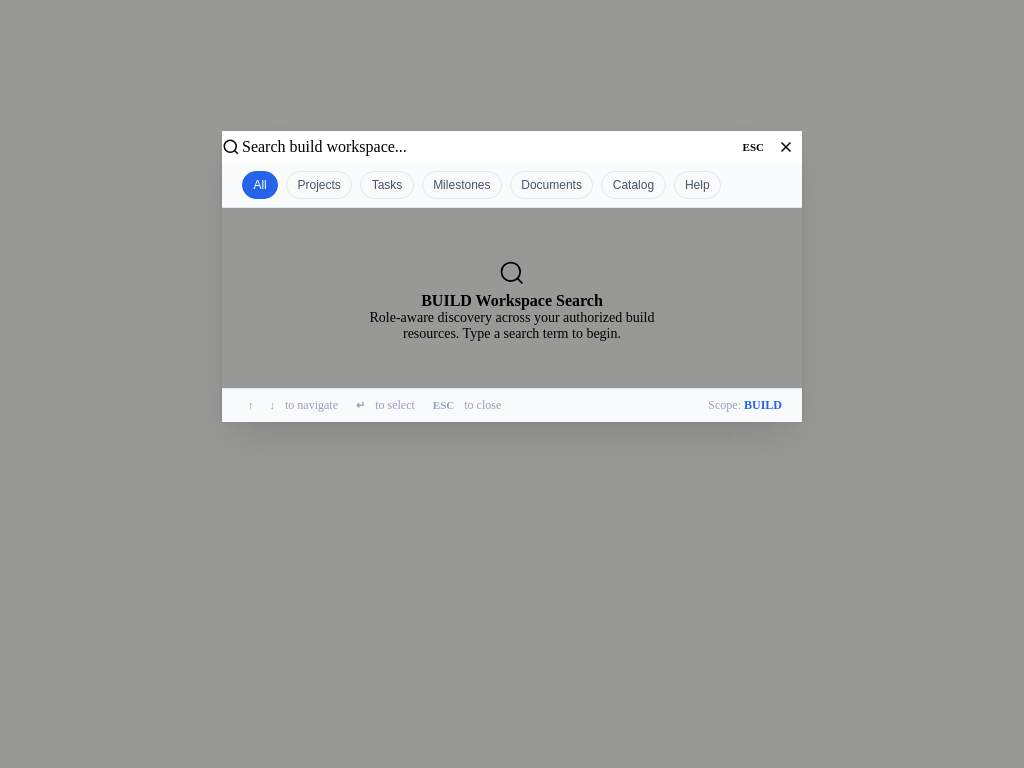
Test: Phase 8 Batch 3: Search & Notifications UI › Global Search Modal › displays error state with retry when search fails
The image size is (1024, 768).
Type "error-query" into the field with placeholder "Search build workspace...".
click(488, 146); type("error-query")  # box [240,136,737,156]
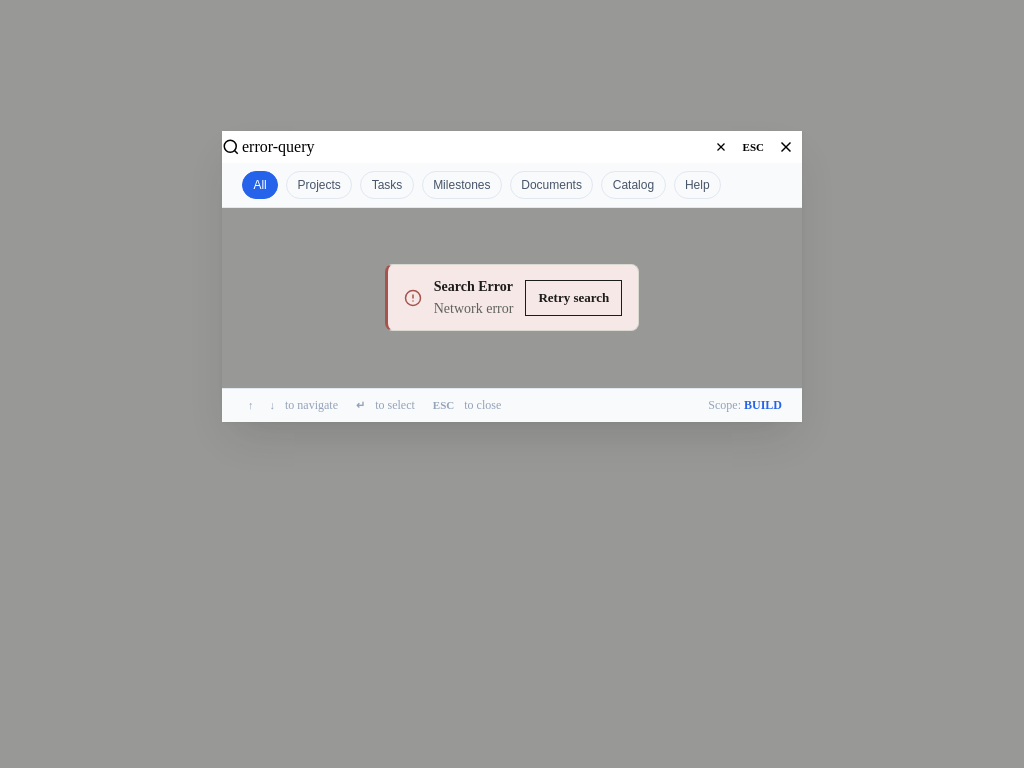
Check: the message "Search Error Network error Retry search" is shown, box [385,264,639,331]
Check: the text "Network error" is shown, box [434,298,513,318]
